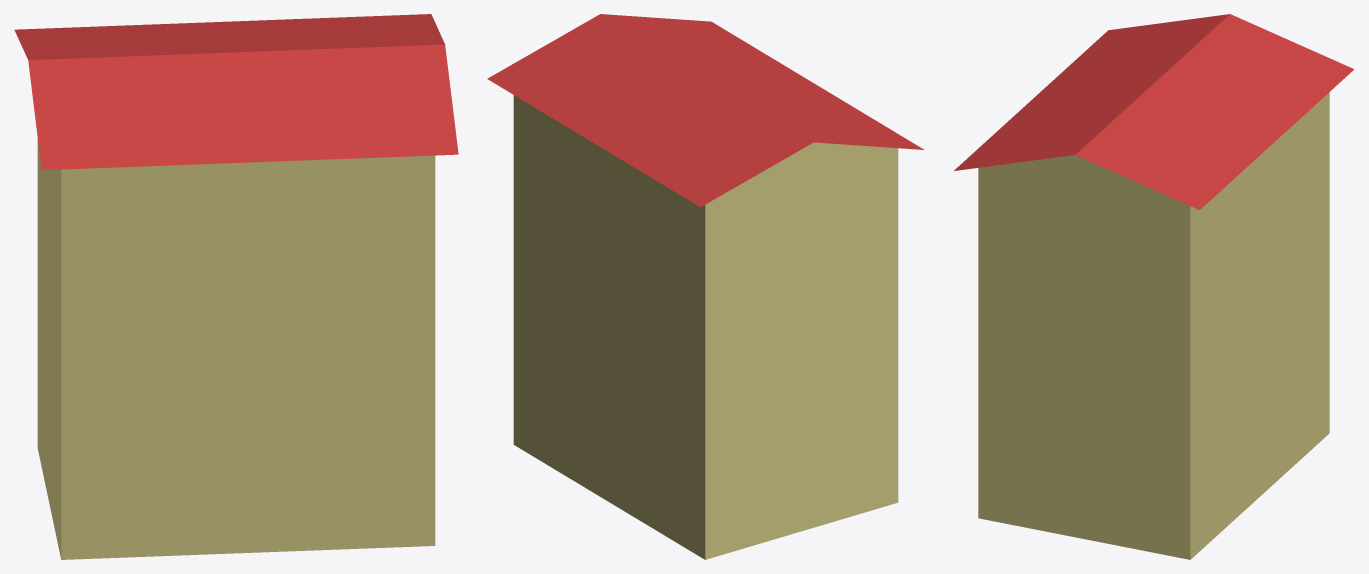
3 renders of one model, left to right at view 1: azimuth 30°, elevation 25°; view 2: azimuth 150°, elevation 25°; view 3: azimuth 270°, elevation 25°, orthographic. The views are drawn at different scales.
Bounding box in the file's own units: 5.92 × 5.3 × 5.7.
